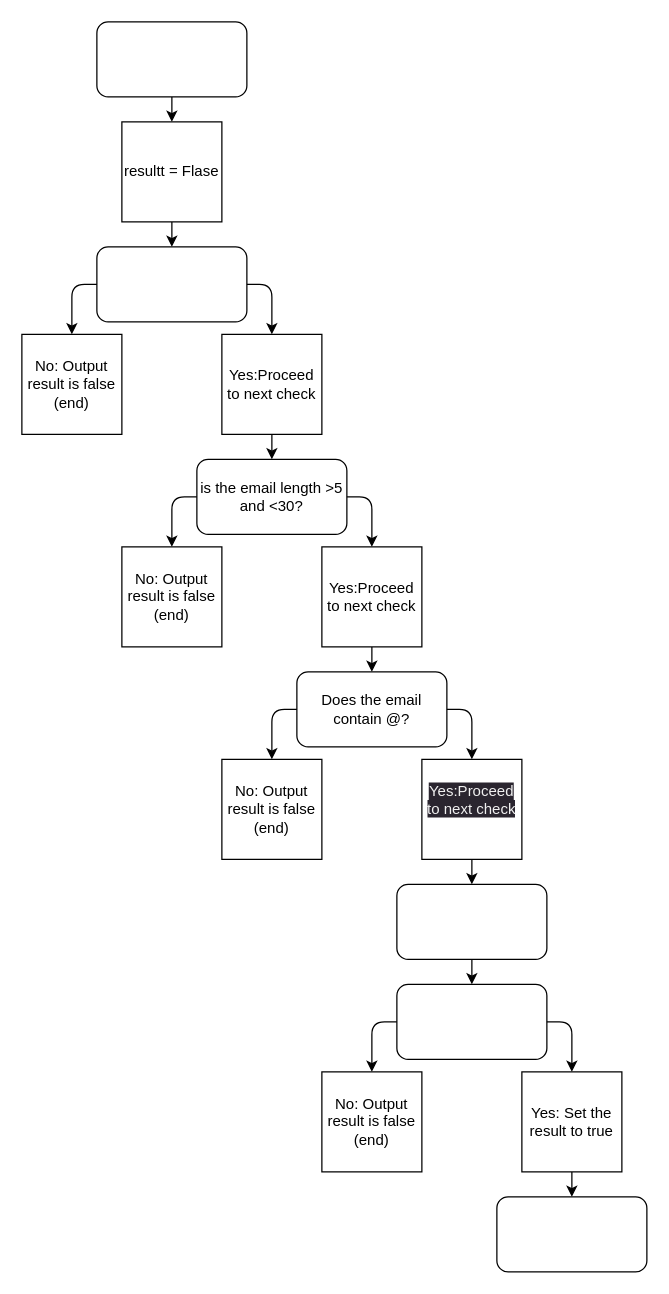
This 669x1294 diagram has some shape labels left out. Here are the shapes that lost their labels. From the top down, the box of each, then its label:
(96, 21, 247, 97): input email:
(96, 246, 247, 322): is the first character a letter? yes or no
(396, 883, 547, 959): Find the index of @
(396, 983, 547, 1059): is there a "." after the @?
(496, 1196, 647, 1272): Output: Result= True
